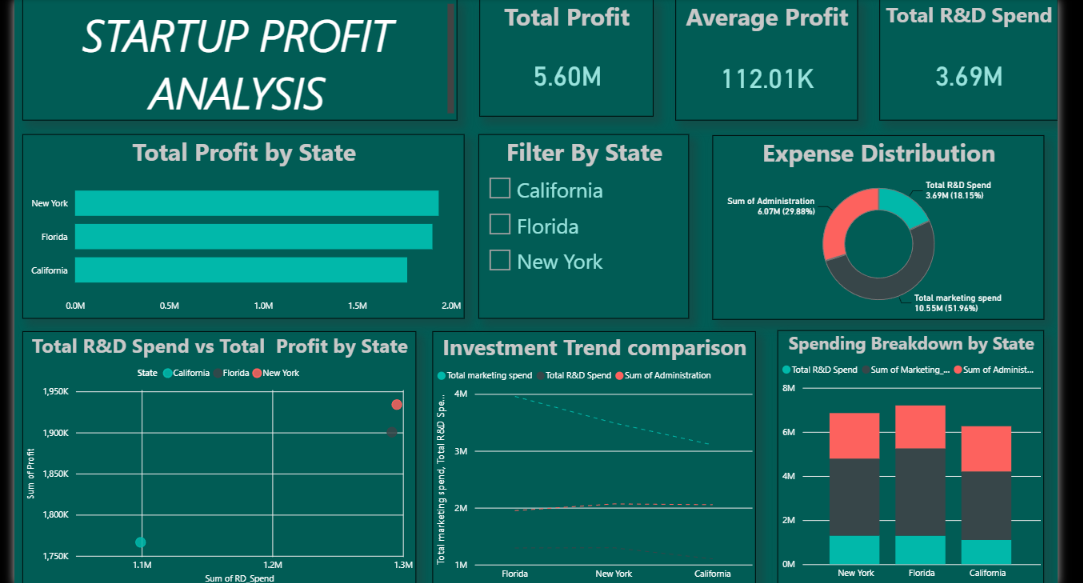

Layout of this report page (visuals, bound fields, positions):
{"tool":"powerbi","page":{"name":"Page 1","canvas":[1280,720],"ordinal":0},"visuals":[{"type":"card","title":"Total Profit","fields":{"Values":["Table1.Total Profit"]},"box":[570.5,0,213.3,143.8],"z":0},{"type":"card","title":"Average Profit","fields":{"Values":["Table1.Average Profit"]},"box":[810.8,0,223.6,148.6],"z":1000},{"type":"card","title":"Total R&D Spend","fields":{"Values":["Table1.Total R&D Spend"]},"box":[1060.8,0,218.9,148.5],"z":2000},{"type":"clusteredBarChart","fields":{"Category":["Table1.State"],"Y":["Table1.Total Profit"]},"box":[10.1,165.9,542.5,226.5],"z":3000},{"type":"slicer","title":"Filter By State","fields":{"Values":["Table1.State"]},"box":[569.9,165.9,258.3,226.5],"z":4000},{"type":"donutChart","title":"Expense Distribution","fields":{"Y":["Table1.Total R&D Spend","Table1.Total marketing spend","Sum(Table1.Administration)"]},"box":[857,167.4,406.9,226.5],"z":5000},{"type":"scatterChart","title":"Total R&D Spend vs Total  Profit by State","fields":{"Series":["Table1.State"],"X":["Sum(Table1.RD_Spend)"],"Y":["Sum(Table1.Profit)"]},"box":[10.1,406.9,483.3,313.1],"z":6000},{"type":"lineChart","title":"Investment Trend comparison","fields":{"Category":["Table1.State"],"Y":["Table1.Total marketing spend","Table1.Total R&D Spend","Sum(Table1.Administration)"]},"box":[513.3,407,396.9,313.2],"z":7000},{"type":"columnChart","title":"Spending Breakdown by State","fields":{"Category":["Table1.State"],"Y":["Table1.Total R&D Spend","Sum(Table1.Marketing_Spend)","Sum(Table1.Administration)"]},"box":[936,406.3,327.2,314],"z":8000},{"type":"textbox","box":[10,0,533.7,148.5],"z":9000}]}

Visuals, with their boxes on the page's 1280x720 design canvas (x1, y1, x2, y2). These are canvas units, not pixel positions in the 1083x583 screenshot, which may show the page scaled, cropped or inside an application window:
"Total Profit" card: {"x1": 570, "y1": 0, "x2": 784, "y2": 144}
"Average Profit" card: {"x1": 811, "y1": 0, "x2": 1034, "y2": 149}
"Total R&D Spend" card: {"x1": 1061, "y1": 0, "x2": 1280, "y2": 148}
clusteredBarChart - Table1.State x Table1.Total Profit: {"x1": 10, "y1": 166, "x2": 553, "y2": 392}
"Filter By State" slicer: {"x1": 570, "y1": 166, "x2": 828, "y2": 392}
"Expense Distribution" donutChart: {"x1": 857, "y1": 167, "x2": 1264, "y2": 394}
"Total R&D Spend vs Total  Profit by State" scatterChart: {"x1": 10, "y1": 407, "x2": 493, "y2": 720}
"Investment Trend comparison" lineChart: {"x1": 513, "y1": 407, "x2": 910, "y2": 720}
"Spending Breakdown by State" columnChart: {"x1": 936, "y1": 406, "x2": 1263, "y2": 720}
textbox: {"x1": 10, "y1": 0, "x2": 544, "y2": 148}
